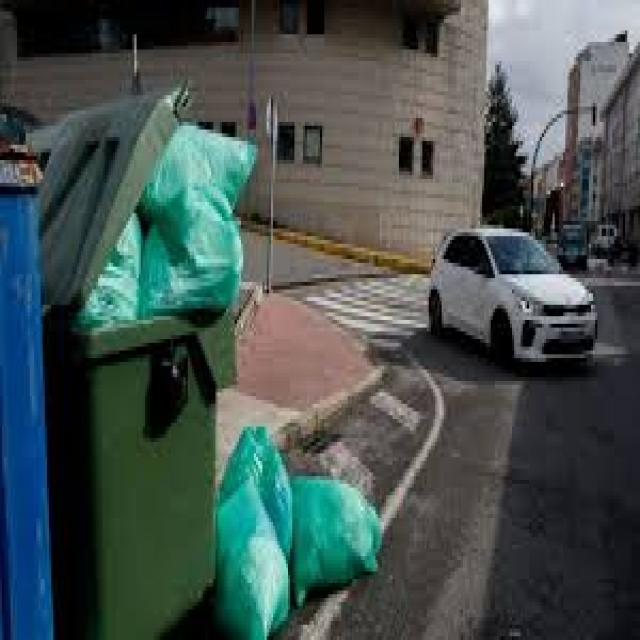garbage: (27, 116, 384, 637)
